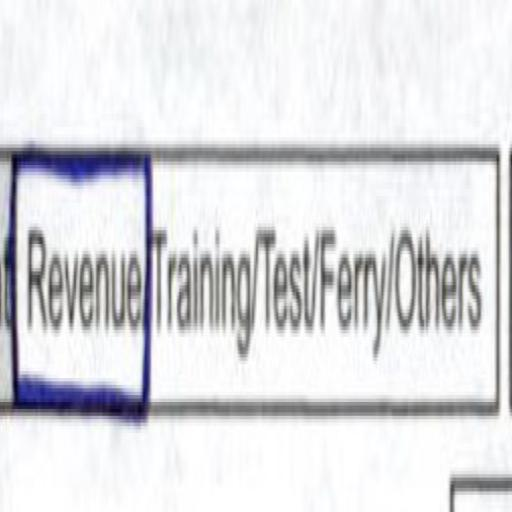check: (12, 112, 154, 481)
